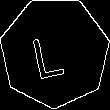L_N: (35, 25, 75, 80)
